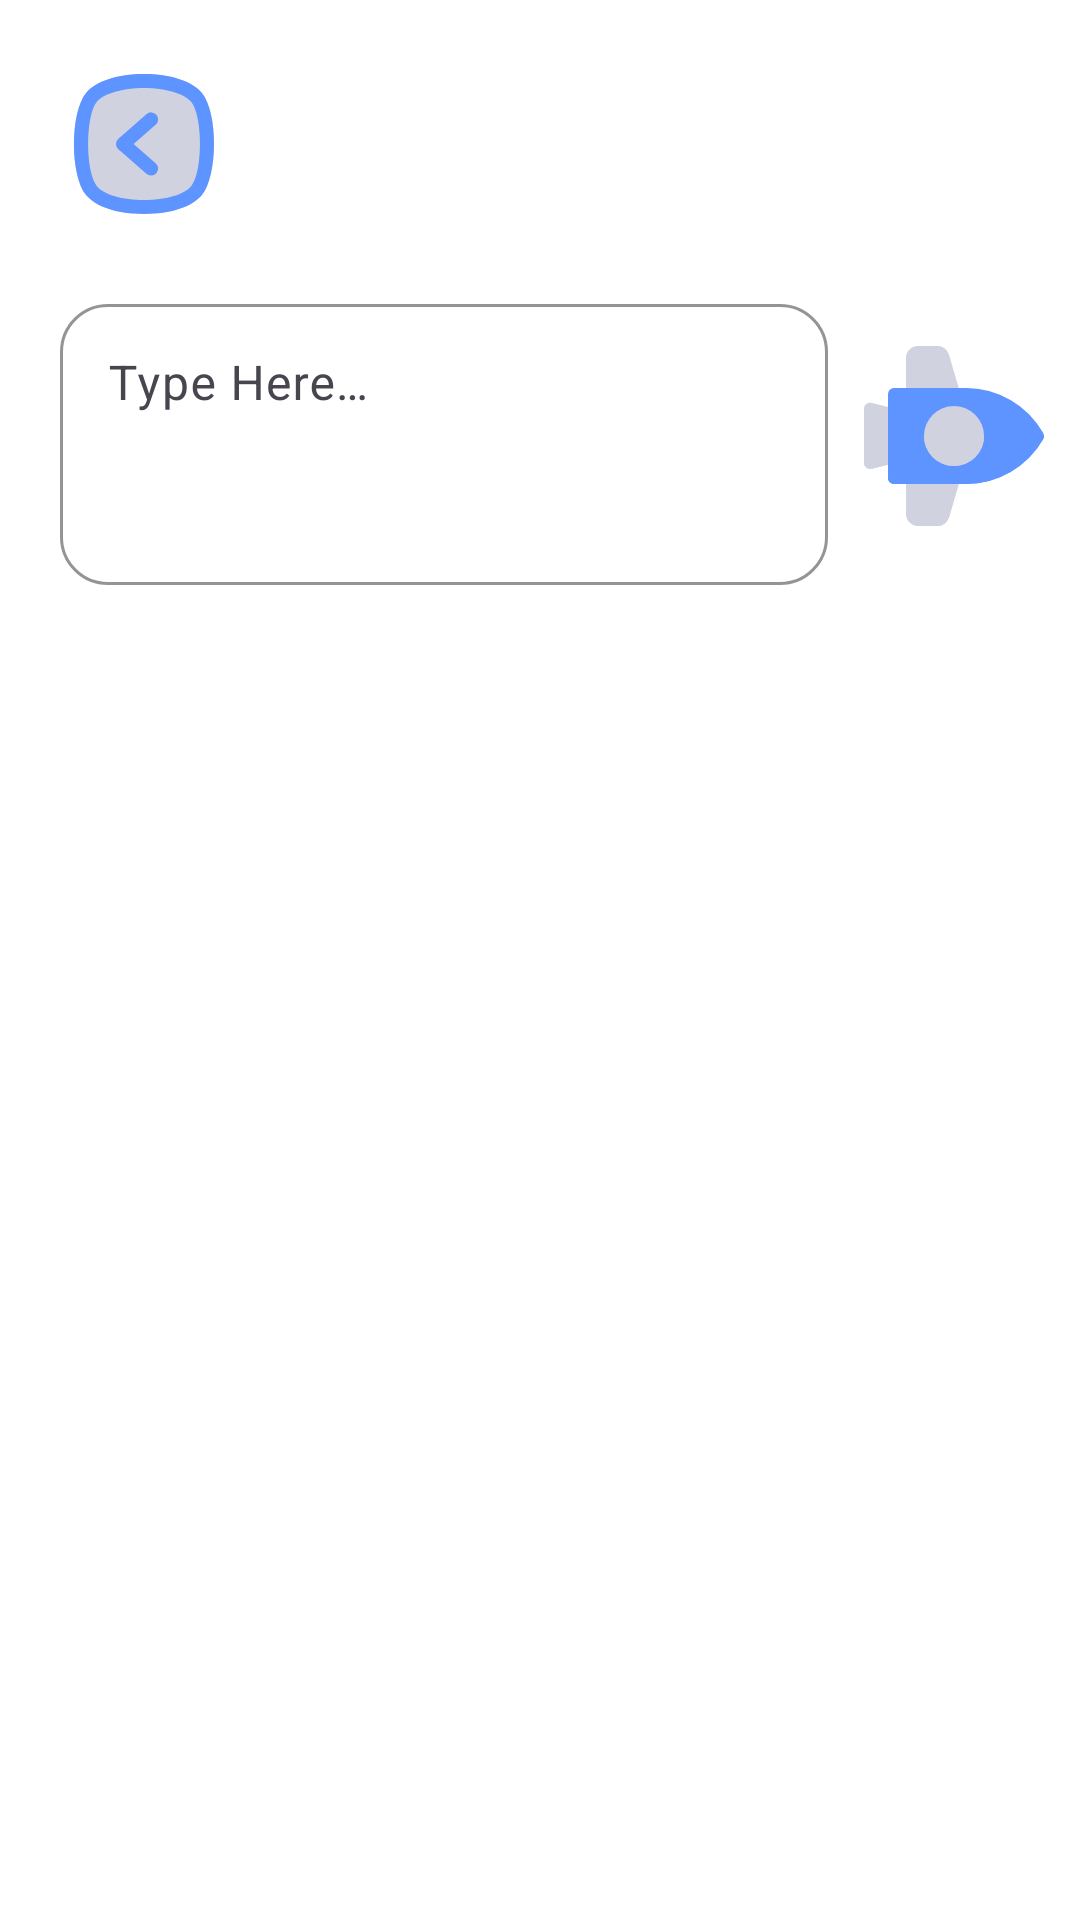

Where icons sit on this 1080x1920 app screen, as (x1, y1, x2, y2):
back: (74, 74, 214, 214)
